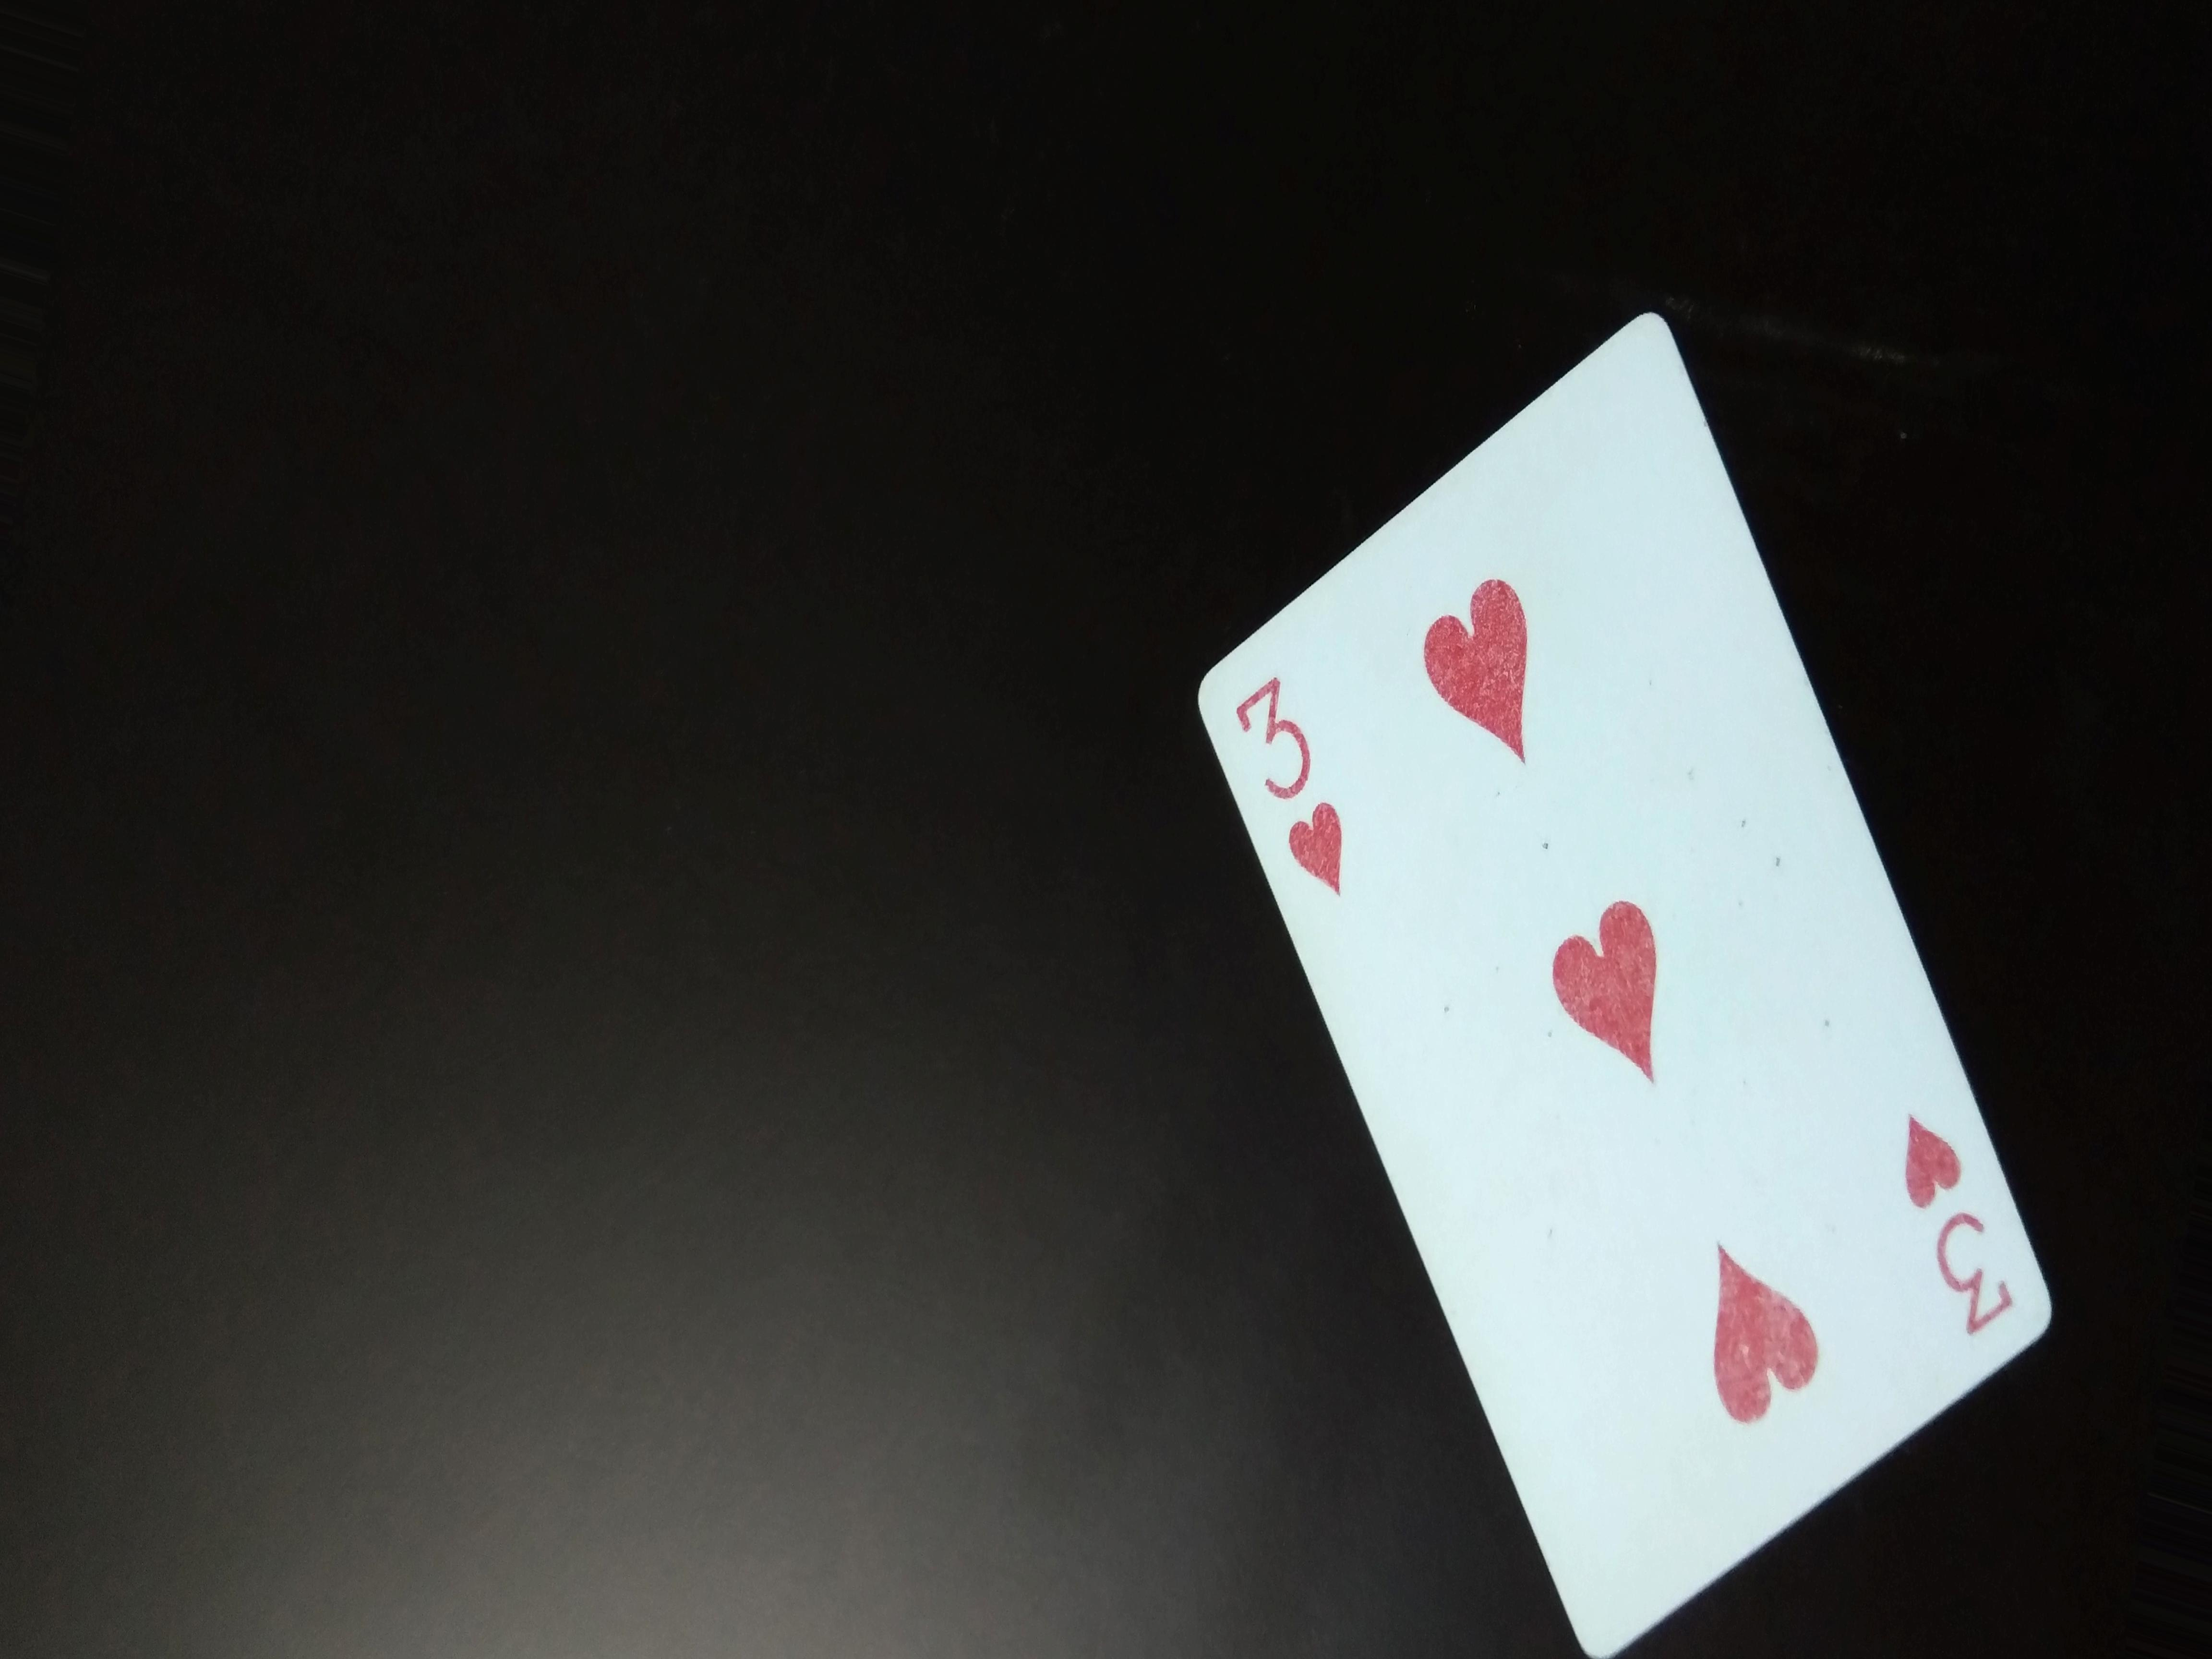3H: (1217, 669, 1366, 904)
